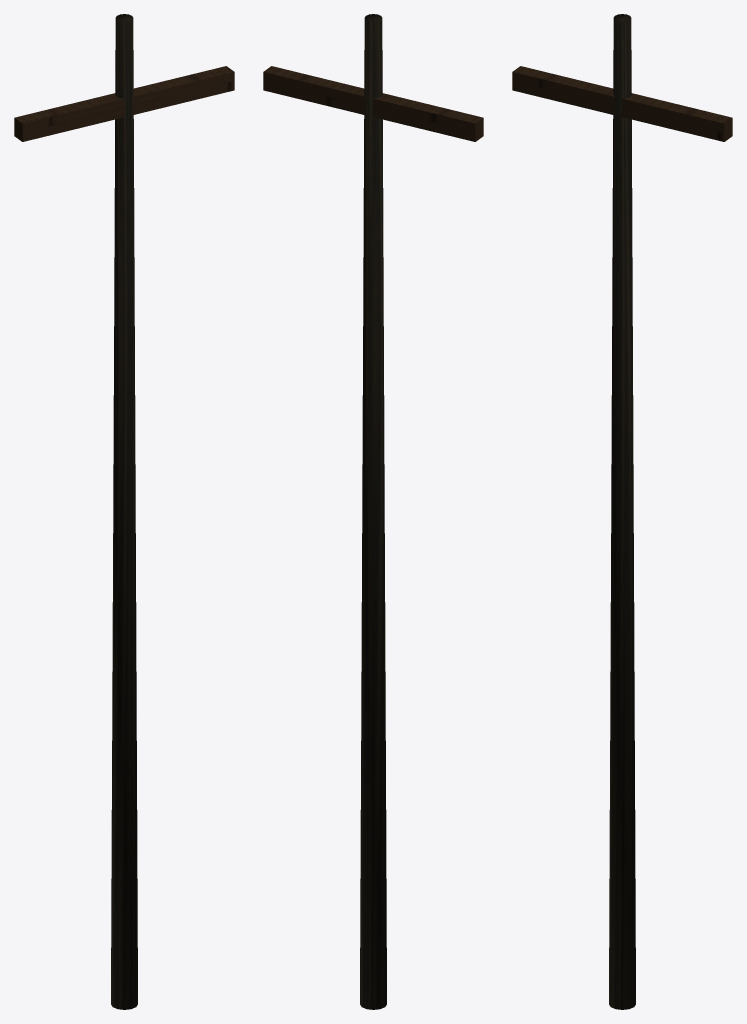
The model's file is utility-pole.glb.
The picture shows the model from 3 angles, left to right: view 1: azimuth 30°, elevation 25°; view 2: azimuth 150°, elevation 25°; view 3: azimuth 330°, elevation 25°; orthographic projection.
Parts seen in each view (by area): view 1: Pole.001, Cross arm; view 2: Pole.001, Cross arm; view 3: Pole.001, Cross arm.
Part boxes in pixels (x1,y1,x2,y2): Pole.001: (111,14,137,1009); Cross arm: (14,66,234,141); Pole.001: (360,14,386,1009); Cross arm: (263,66,483,141); Pole.001: (609,14,635,1009); Cross arm: (512,66,732,141).
Bounding box in the file's own units: 1.8 × 8 × 0.2.
Materials: 2 (2 with a texture image).
